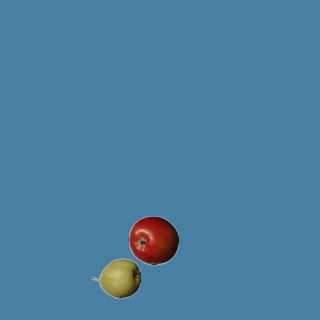Apple Braeburn: (128, 215, 178, 265)
Pear: (90, 253, 140, 303)
